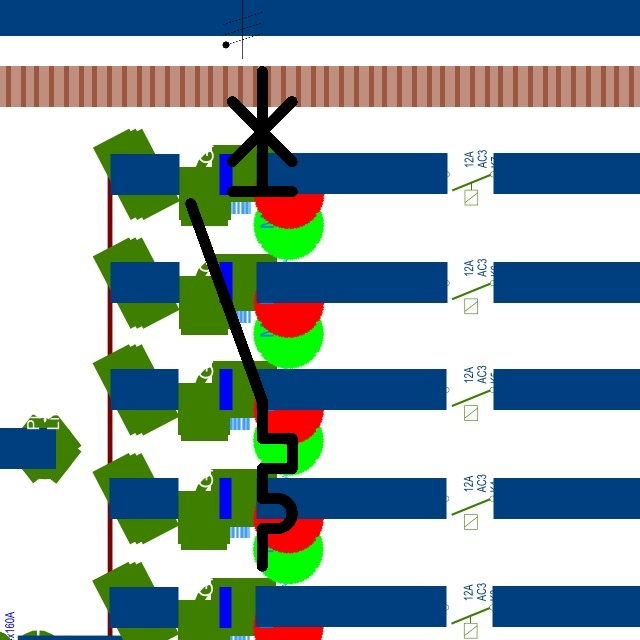interruptor_termomagnetico: (178, 58, 305, 578)
